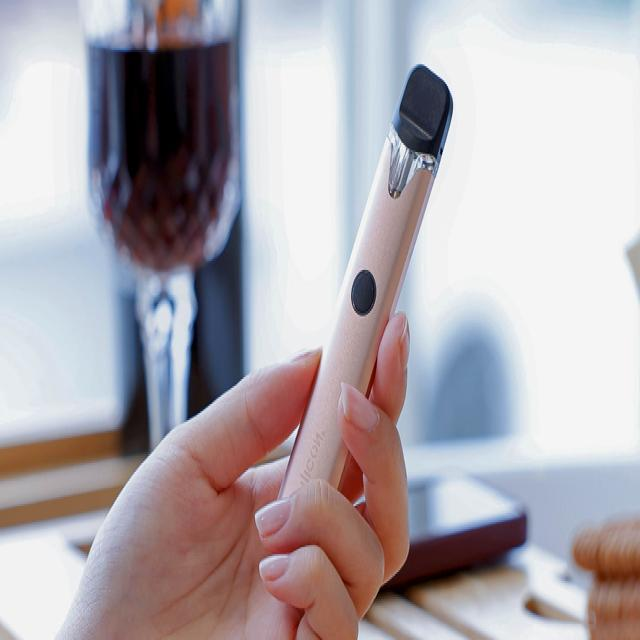Hazard: (278, 61, 455, 518)
